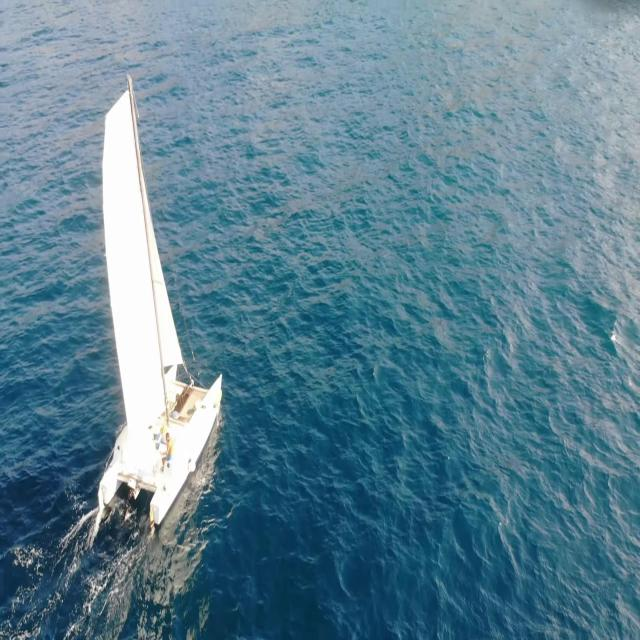sailboat: (80, 74, 224, 539)
